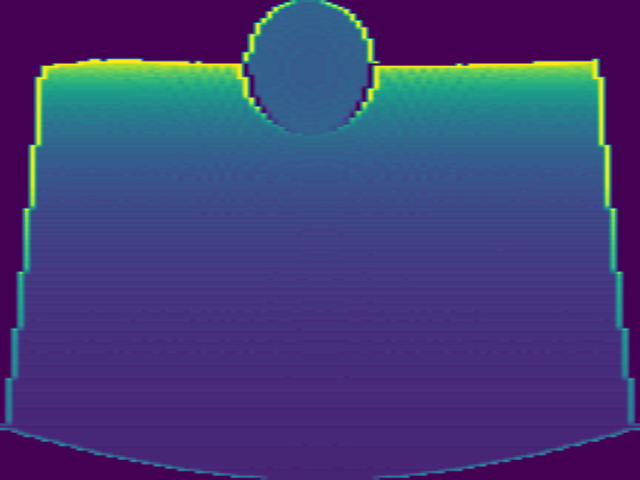sphere: (241, 3, 377, 136)
